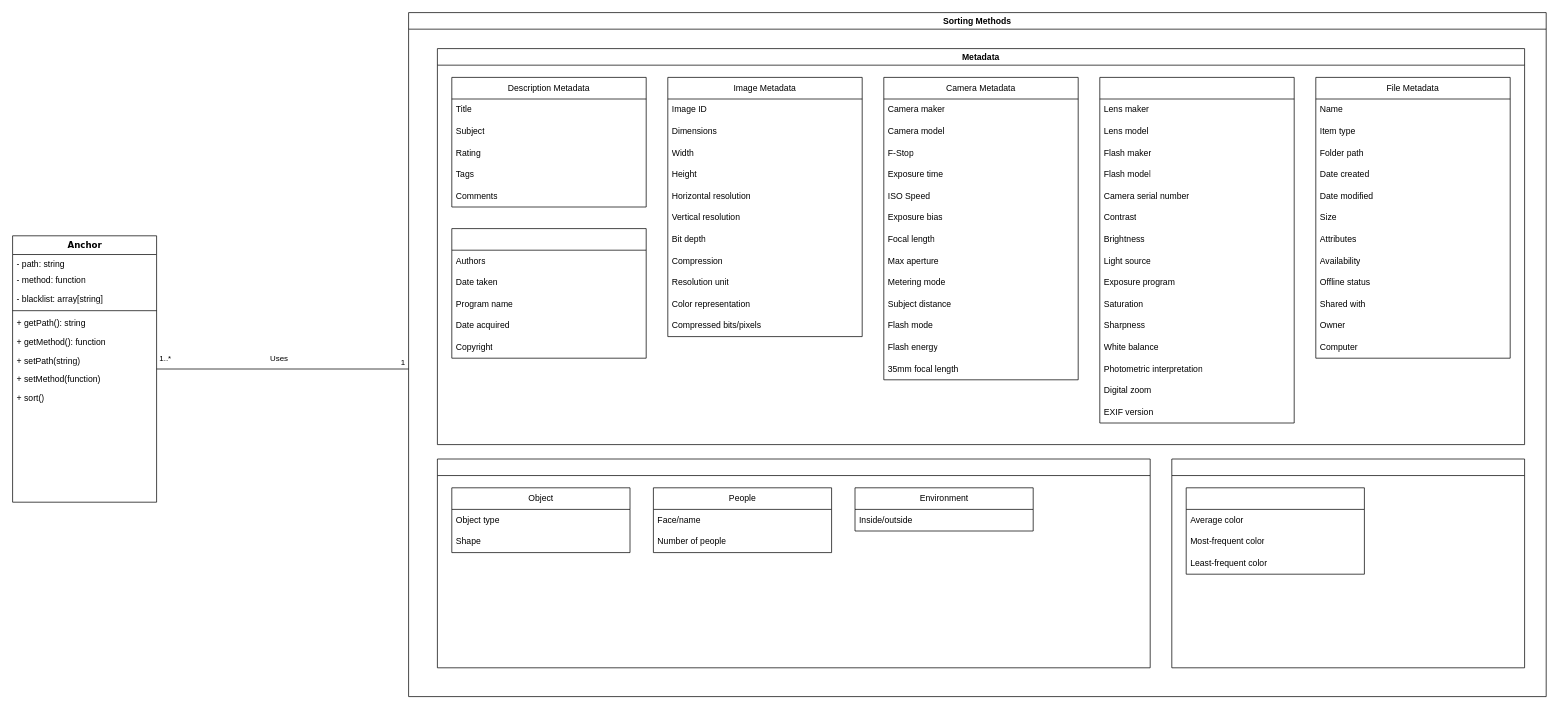
Some shapes in this 1559 by 709 pixel diagram are drawn without their labels. Here are the shapes that lost their labels. From the top down, the box of each, then its label:
(1099, 77, 1294, 423): Advanced Photo Metadata
(451, 228, 646, 358): Origin Metadata
(1185, 487, 1364, 574): Colors
(437, 458, 1150, 668): Computer Vision / Object Recognition / Machine Learning
(1171, 458, 1525, 668): Pixel Data
